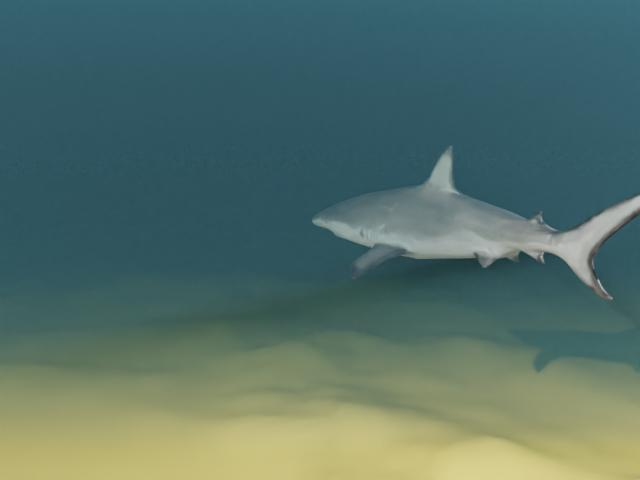Carribean Shark.001: (311, 145, 640, 300)
